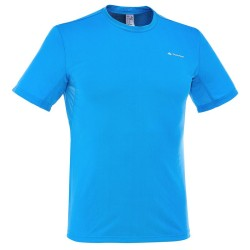T-Shirt: (10, 3, 240, 245)
